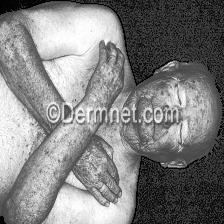Benign Marking or Mole: (189, 85, 213, 126), (43, 147, 71, 168), (10, 35, 29, 65), (36, 84, 49, 101)
